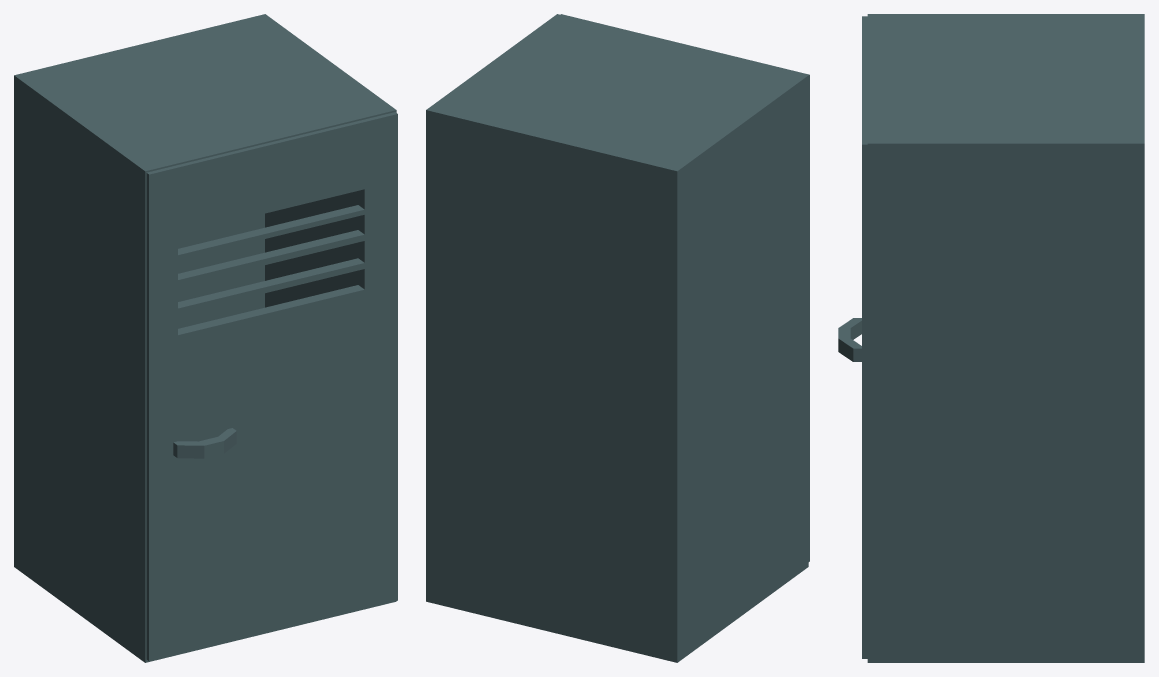
The model's file is locker.fbx.
3 renders of one model, left to right at view 1: azimuth 30°, elevation 25°; view 2: azimuth 150°, elevation 25°; view 3: azimuth 270°, elevation 25°, orthographic. The views are drawn at different scales.
Visible parts, largest first — view 1: Cube.050; view 2: Cube.050; view 3: Cube.050.
Part boxes in pixels (<box>): Cube.050: <box>14,14,397,662</box>; Cube.050: <box>426,14,809,662</box>; Cube.050: <box>838,14,1144,662</box>.
Size of the model in its own units: 126 by 236 by 126.
